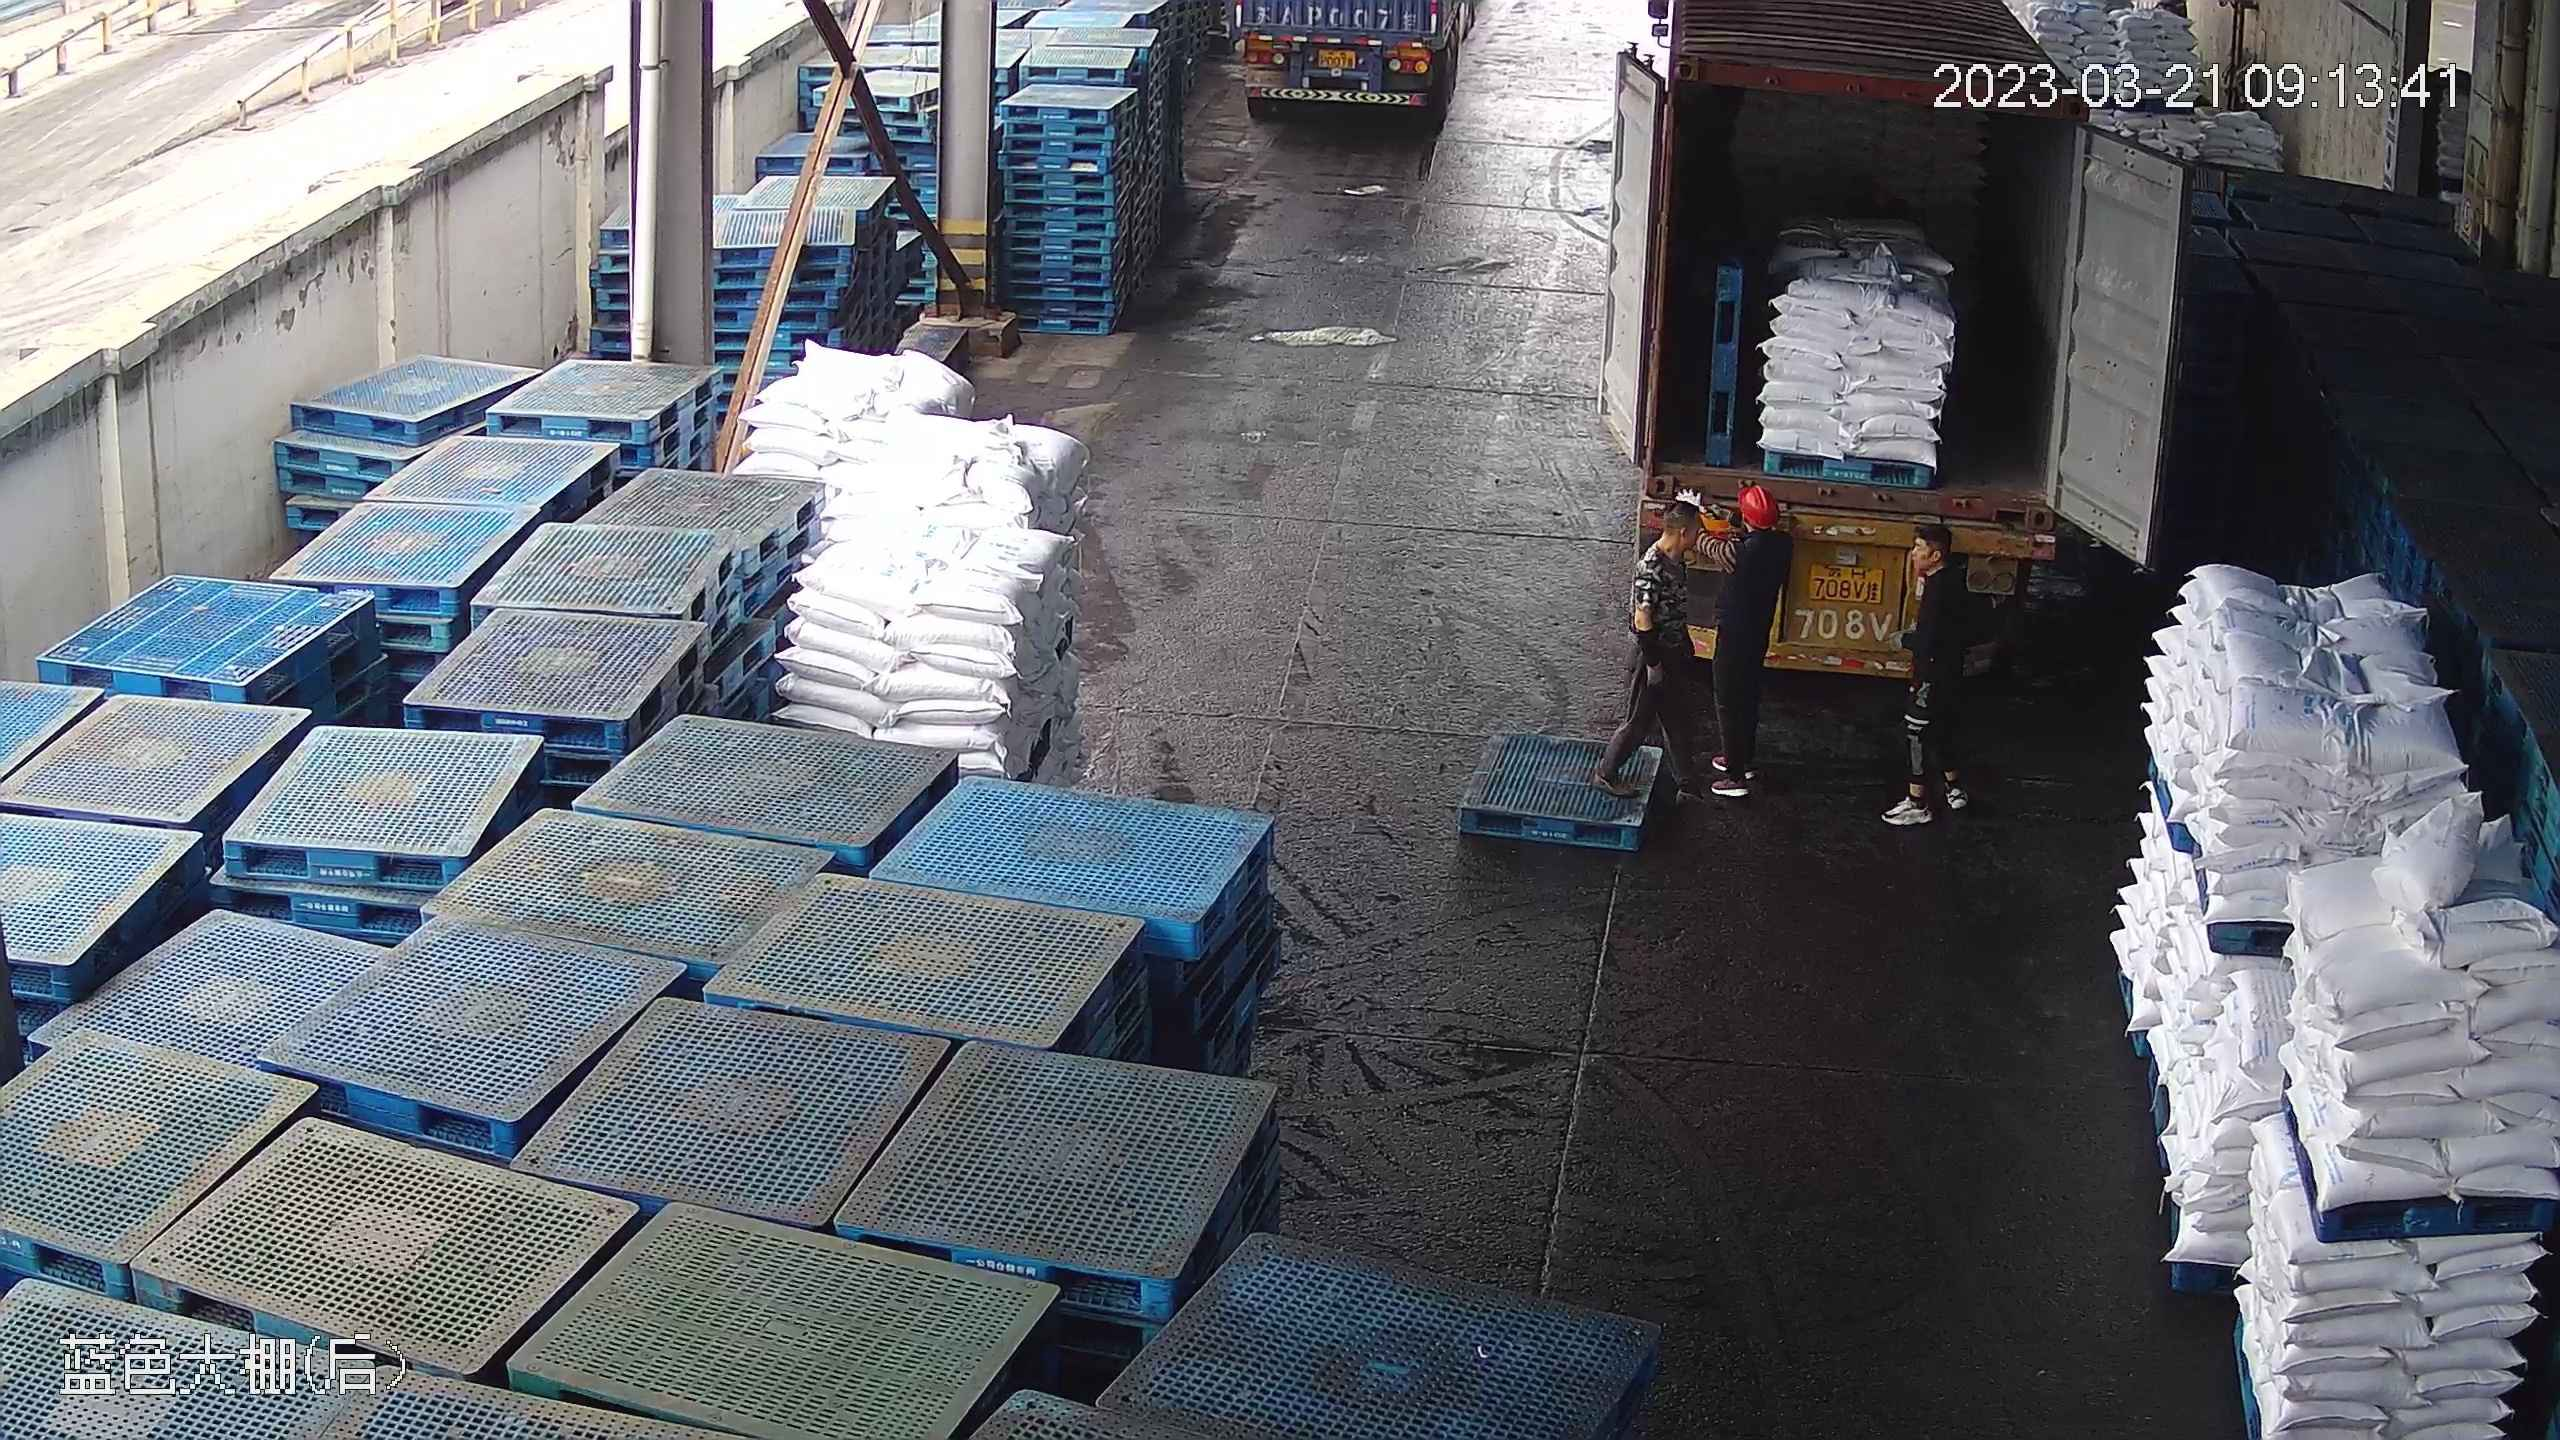head: (1623, 499, 1706, 615), (1715, 483, 1796, 588), (1897, 524, 1973, 625)
helmet: (1737, 481, 1780, 523)
people: (1877, 521, 1982, 832), (1701, 480, 1794, 793), (1618, 499, 1719, 780)
